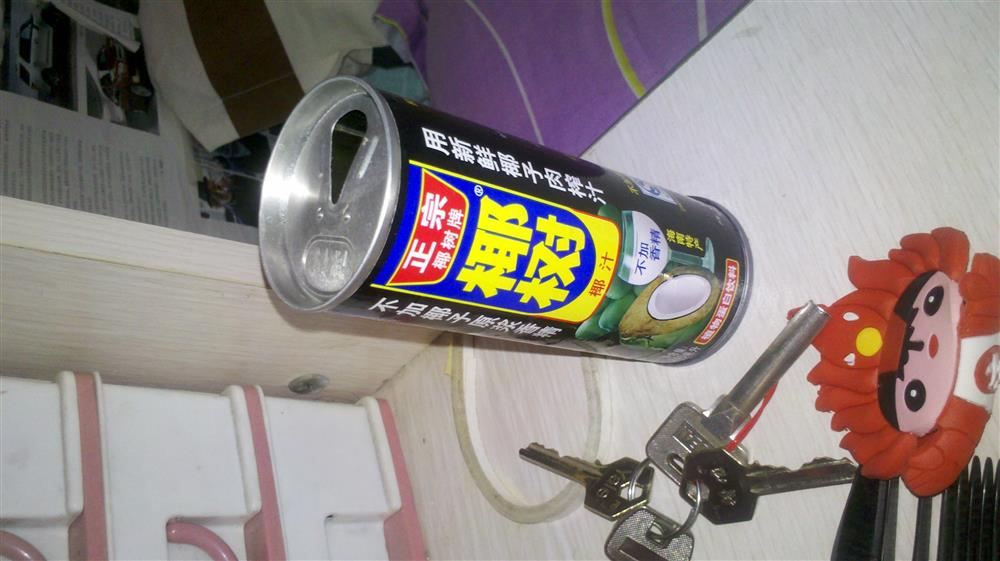coconut_juice: (257, 78, 750, 366)
